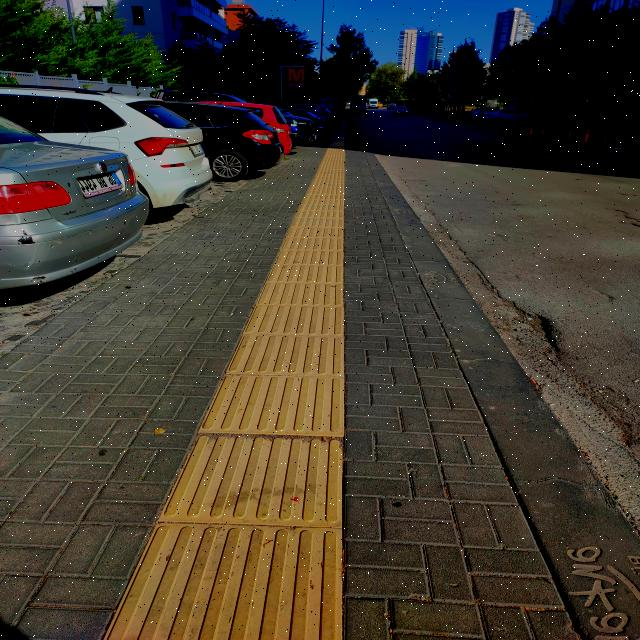sidewalk: (2, 124, 637, 640)
